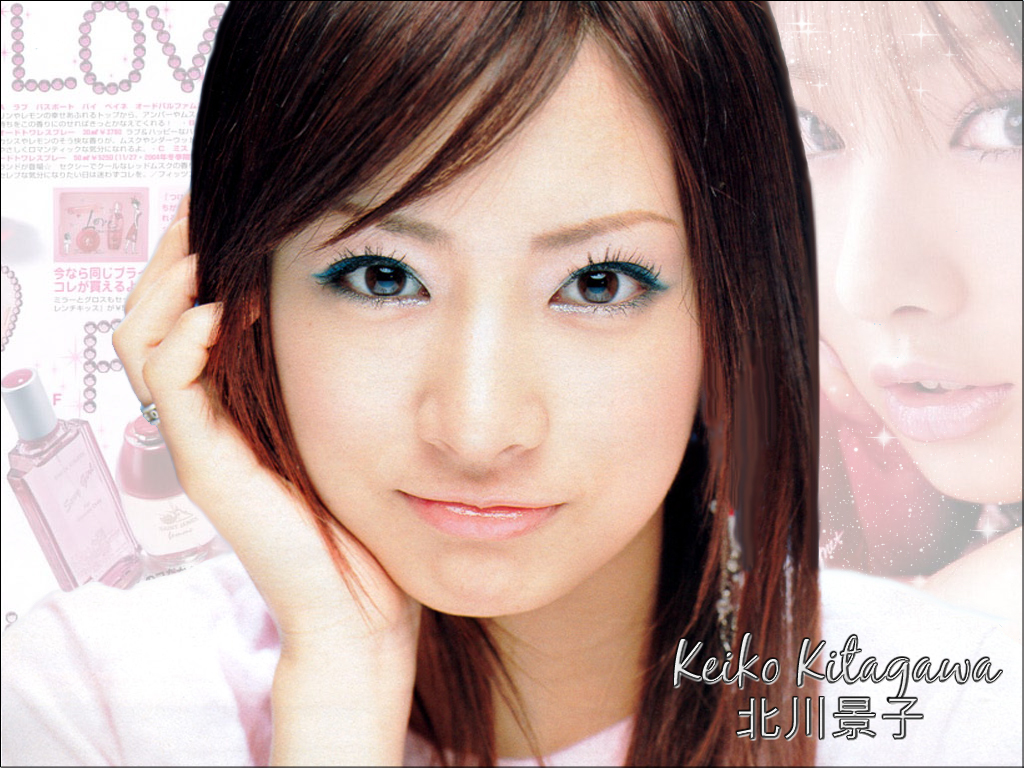Person: (111, 0, 827, 767)
